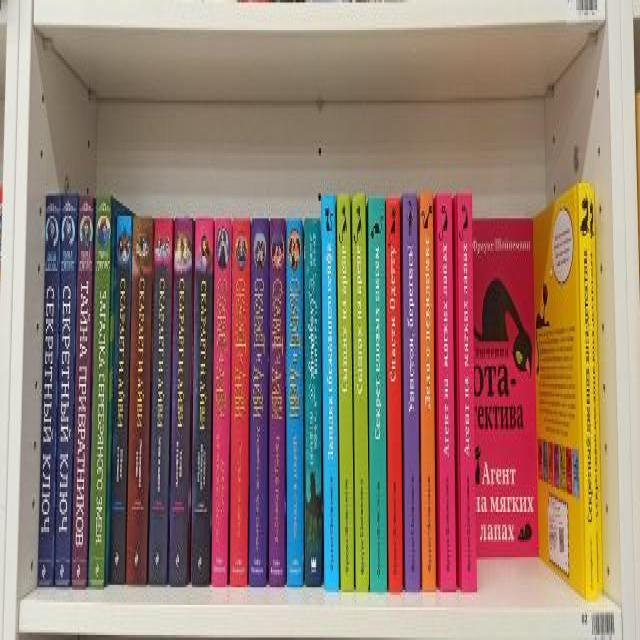book: (126, 216, 153, 583), (37, 192, 61, 586), (88, 195, 111, 589), (54, 193, 77, 586), (169, 218, 193, 586), (72, 195, 94, 589), (456, 192, 477, 594), (149, 218, 172, 584), (110, 214, 132, 583), (210, 218, 232, 586), (436, 194, 456, 592), (191, 218, 212, 587), (579, 183, 597, 600), (249, 217, 269, 586), (230, 218, 250, 585), (321, 194, 339, 592), (369, 197, 387, 591), (352, 192, 369, 592), (403, 194, 420, 593), (337, 194, 354, 589), (304, 219, 322, 586), (386, 198, 402, 592), (286, 220, 303, 588), (420, 192, 435, 591), (270, 219, 286, 587)
